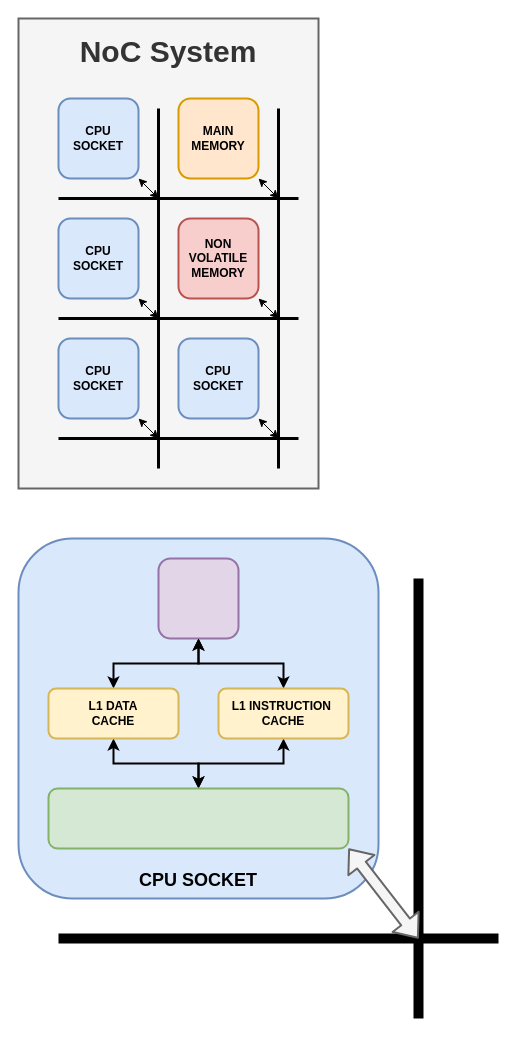
The diagram is 521 pixels wide and 1041 high, and some of its shapes have lost their labels. The shapes that lost their labels are listed below. From the top down, each one's centre as x and y in pixels, then its label:
At pixel 198 598: "CPU".
At pixel 198 818: "RUBY REQUENCER".
